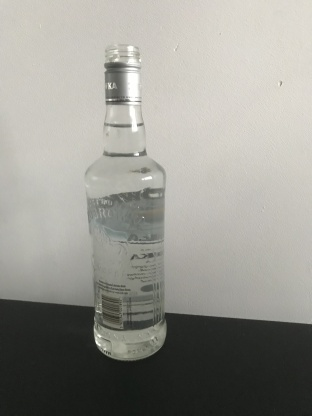nakretka: (102, 41, 143, 107)
